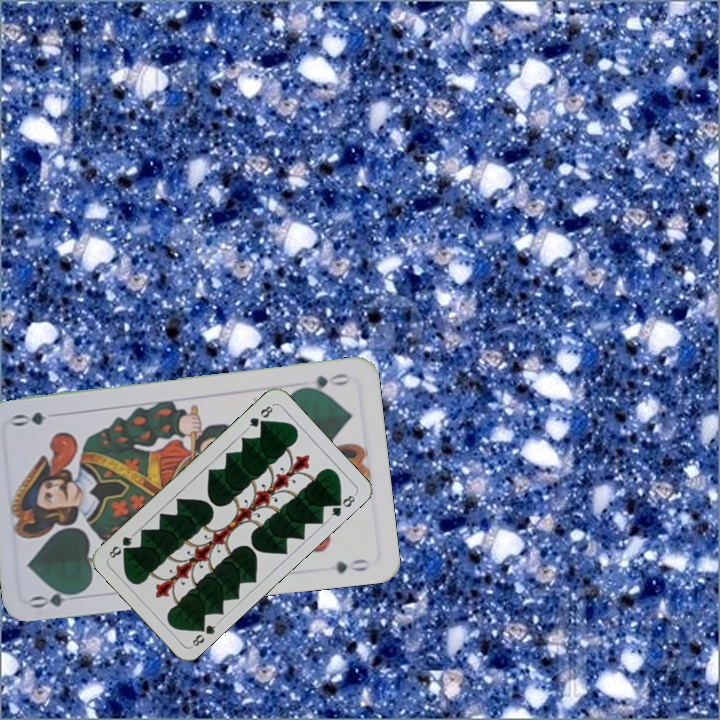G8: (188, 618, 221, 650), (243, 401, 277, 432)
GO: (27, 584, 86, 611), (295, 369, 352, 395)
